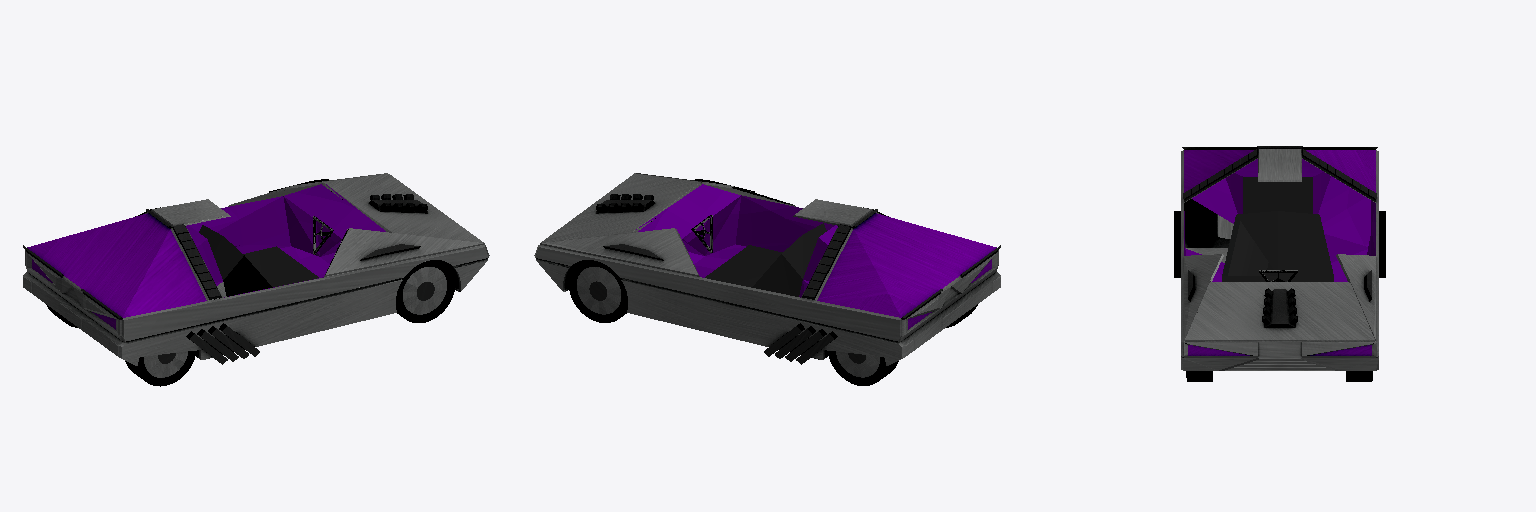
The picture shows the model from 3 angles: view 1: azimuth 30°, elevation 25°; view 2: azimuth 150°, elevation 25°; view 3: azimuth 270°, elevation 25°; orthographic projection.
Visible parts, largest first — view 1: Plane; view 2: Plane; view 3: Plane.
Boxes of the visible parts, x1=… form: Plane: x1=23, y1=173, x2=489, y2=386; Plane: x1=534, y1=173, x2=1000, y2=385; Plane: x1=1174, y1=146, x2=1385, y2=381.
Bounding box in the file's own units: 12.32 × 3.98 × 6.1.
Materials: 1 (1 with a texture image).